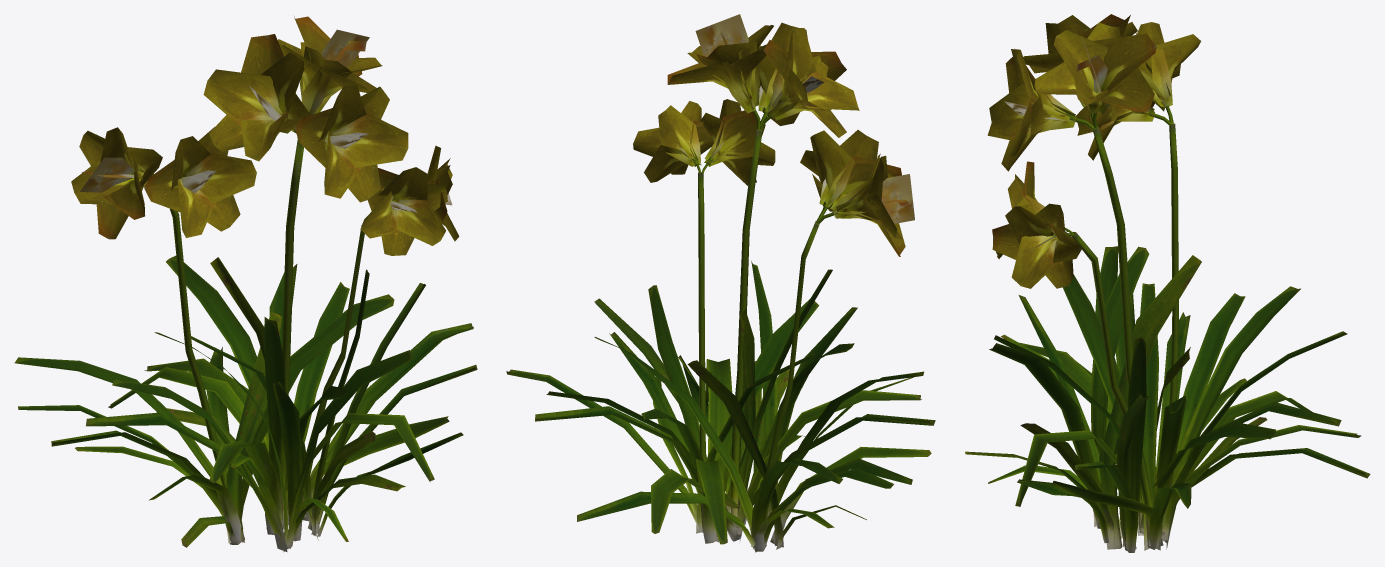
The model's file is Amaryllis_bush_long_yellowgreen.glb.
3 views of the same model, side by side, from view 1: azimuth 30°, elevation 25°; view 2: azimuth 150°, elevation 25°; view 3: azimuth 270°, elevation 25° (orthographic). The views are drawn at different scales.
Visible parts, largest first — view 1: bush; view 2: bush; view 3: bush.
Boxes of the visible parts, x1,y1,x2,y2 form: bush: (14, 16, 477, 552); bush: (506, 14, 935, 552); bush: (965, 14, 1370, 552).
Size of the model in its own units: 2.94 by 3.42 by 2.41.
1 material, 1 textured.
